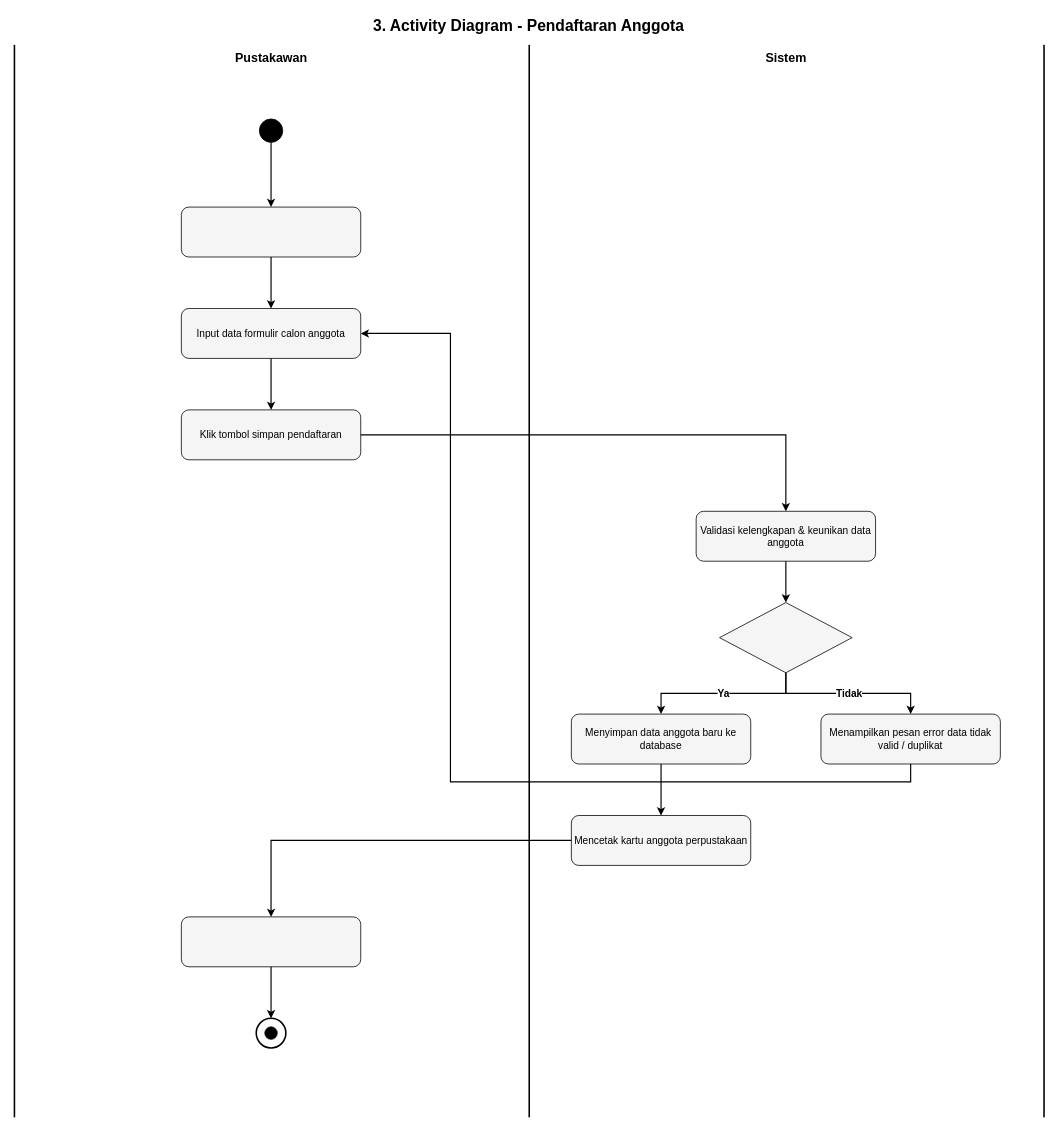
Image size: 1058x1130. Some labels were removed from this diagram. The shapes that lost their labels are listed below. From the top down, each one's box as (x1, y1, x2, y2) in pixels, then its label:
(181, 206, 361, 257): Buka menu pendaftaran anggota
(719, 602, 852, 673): Data valid & belum terdaftar?
(181, 916, 361, 967): Menyerahkan kartu anggota ke pemustaka
